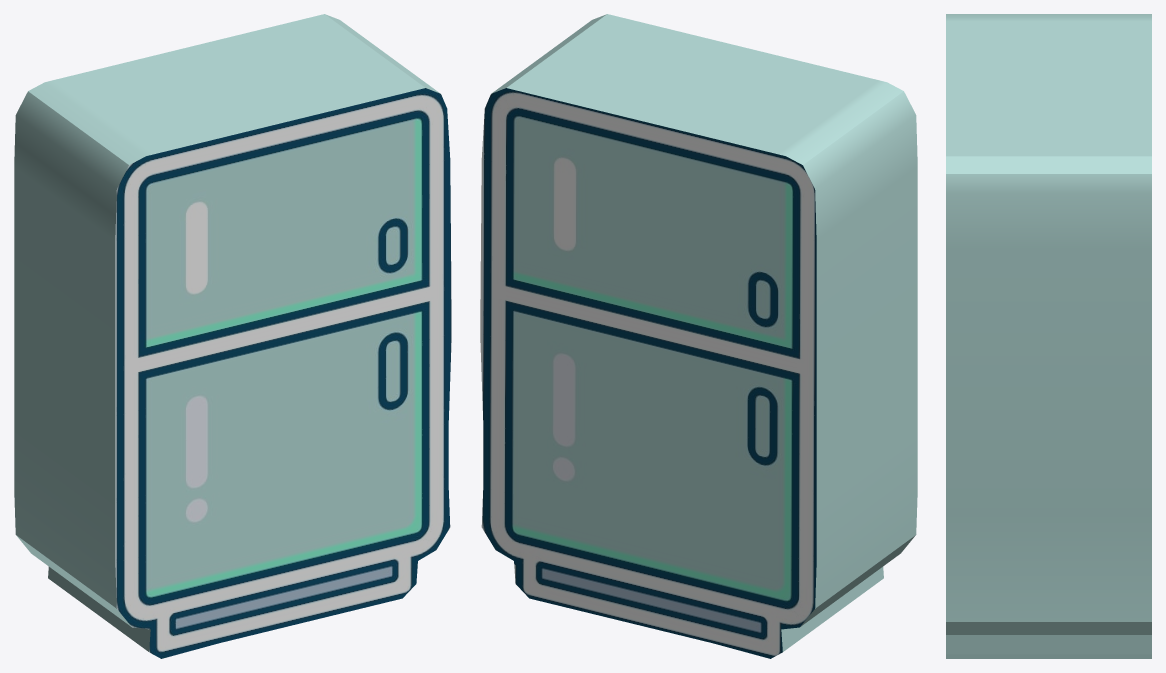
The model's file is Fridge FBX.fbx.
3 renders of one model, left to right at view 1: azimuth 30°, elevation 25°; view 2: azimuth 150°, elevation 25°; view 3: azimuth 270°, elevation 25°, orthographic.
Visible parts, largest first — view 1: polySurface1; view 2: polySurface1; view 3: polySurface1.
Boxes of the visible parts, x1,y1,x2,y2 form: polySurface1: (14, 14, 451, 658); polySurface1: (480, 14, 917, 658); polySurface1: (946, 14, 1151, 658).
Size of the model in its own units: 4.01 by 5.77 by 2.09.
1 material, 1 textured.
